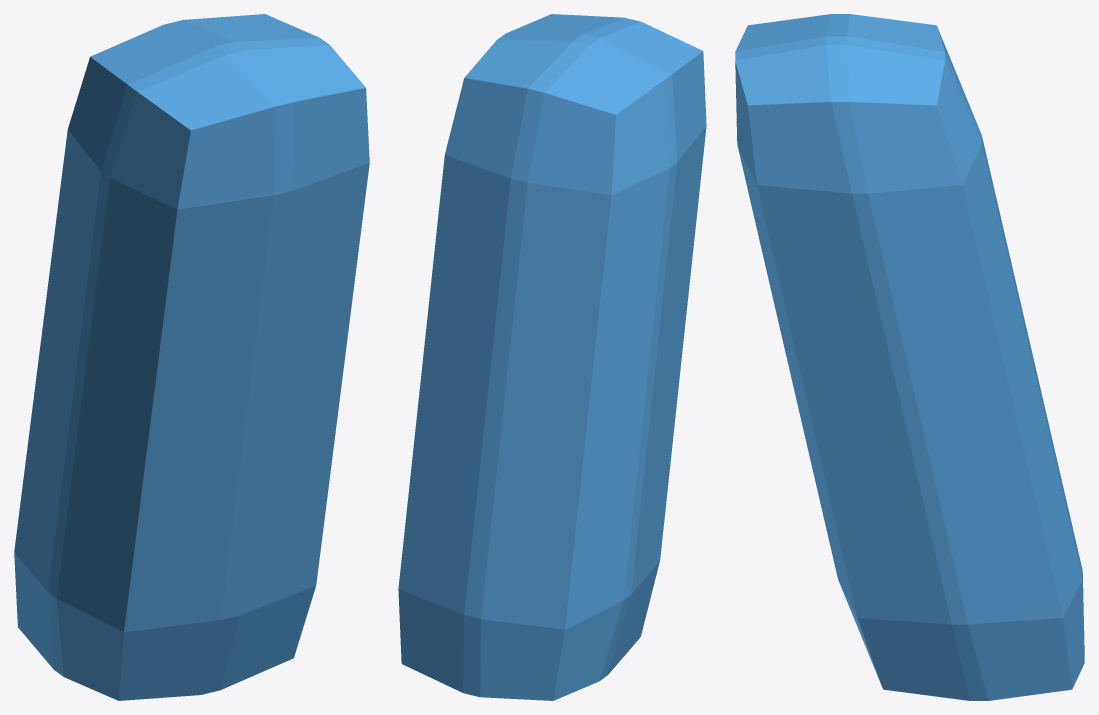
Rendered from left_shin__shin_spike__narrow_spike.glb.
The picture shows the model from 3 angles, left to right: view 1: azimuth 30°, elevation 25°; view 2: azimuth 150°, elevation 25°; view 3: azimuth 270°, elevation 25°; orthographic projection. The views are drawn at different scales.
Visible parts, largest first — view 1: armor_topping_left_shin_shin_spike_narrow_spike_v001_v001; view 2: armor_topping_left_shin_shin_spike_narrow_spike_v001_v001; view 3: armor_topping_left_shin_shin_spike_narrow_spike_v001_v001.
Part boxes in pixels (x1,y1,x2,y2): armor_topping_left_shin_shin_spike_narrow_spike_v001_v001: (14,14,369,700); armor_topping_left_shin_shin_spike_narrow_spike_v001_v001: (398,14,706,700); armor_topping_left_shin_shin_spike_narrow_spike_v001_v001: (735,14,1084,700).
Bounding box in the file's own units: 0.0175 × 0.05 × 0.025.
